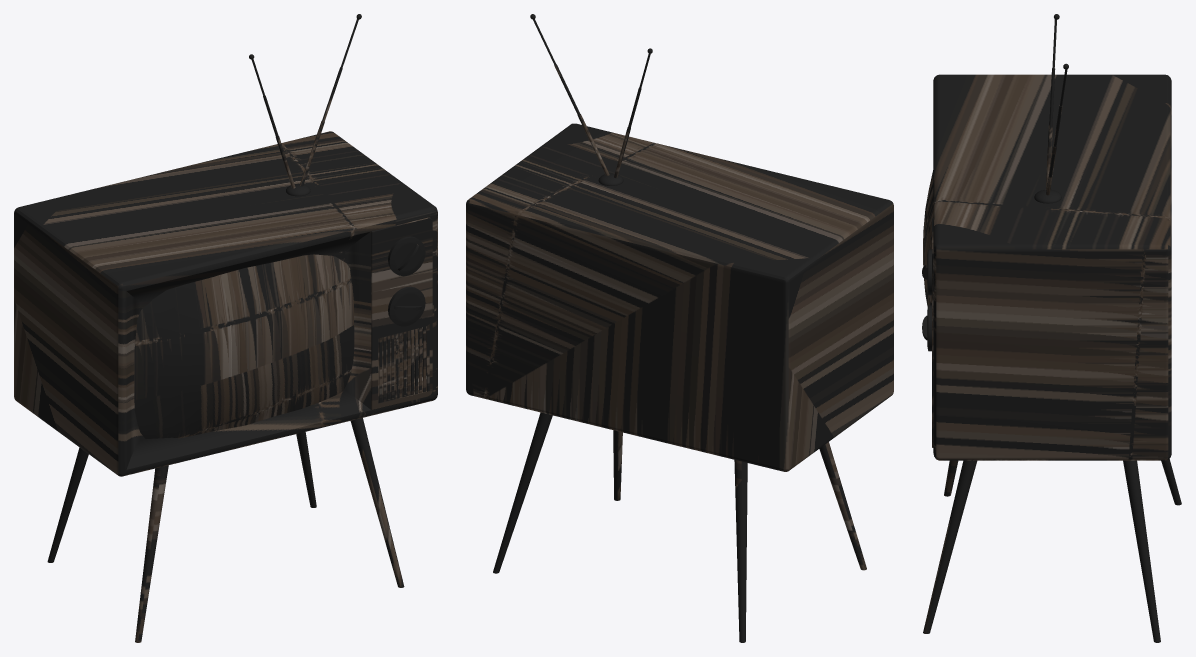
File: TVTexture.gltf
3 views of the same model, side by side, from view 1: azimuth 30°, elevation 25°; view 2: azimuth 150°, elevation 25°; view 3: azimuth 270°, elevation 25° (orthographic). The views are drawn at different scales.
Parts seen in each view (by area): view 1: SM_TV; view 2: SM_TV; view 3: SM_TV.
Boxes of the visible parts, x1,y1,x2,y2 form: SM_TV: [14, 14, 437, 642]; SM_TV: [466, 14, 893, 642]; SM_TV: [922, 14, 1181, 642].
Size of the model in its own units: 0.8695 by 1.35 by 0.5481.
